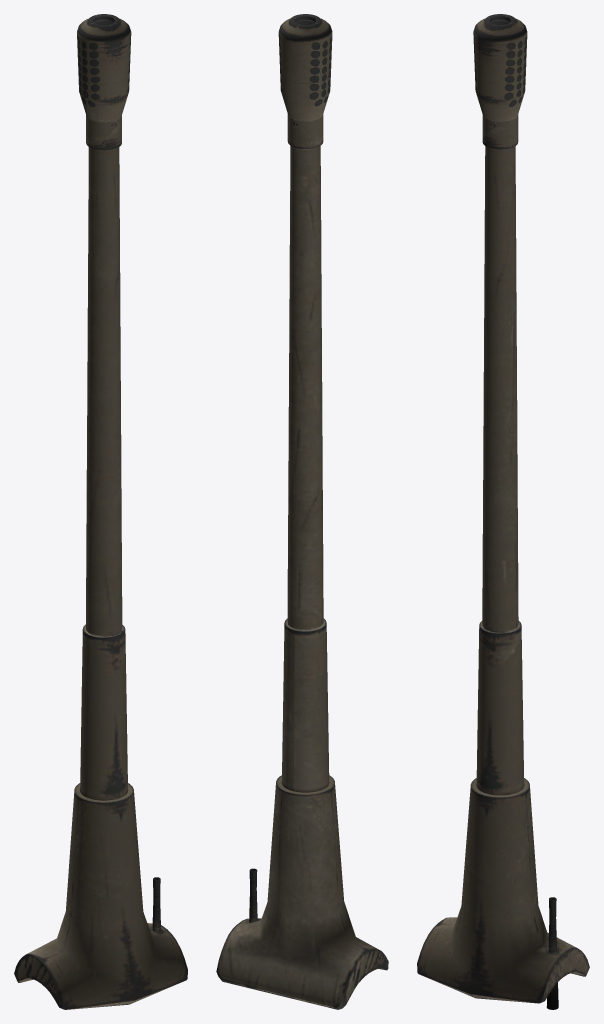
The model's file is Gun_04.glb.
3 renders of one model, left to right at view 1: azimuth 30°, elevation 25°; view 2: azimuth 150°, elevation 25°; view 3: azimuth 330°, elevation 25°, orthographic.
Visible parts, largest first — view 1: set_0_group_0; view 2: set_0_group_0; view 3: set_0_group_0.
Boxes of the visible parts, x1,y1,x2,y2 form: set_0_group_0: [14, 14, 187, 1009]; set_0_group_0: [216, 14, 388, 1009]; set_0_group_0: [417, 14, 589, 1009].
Bounding box in the file's own units: 0.7796 × 5.74 × 0.62.
Materials: 1 (1 with a texture image).
